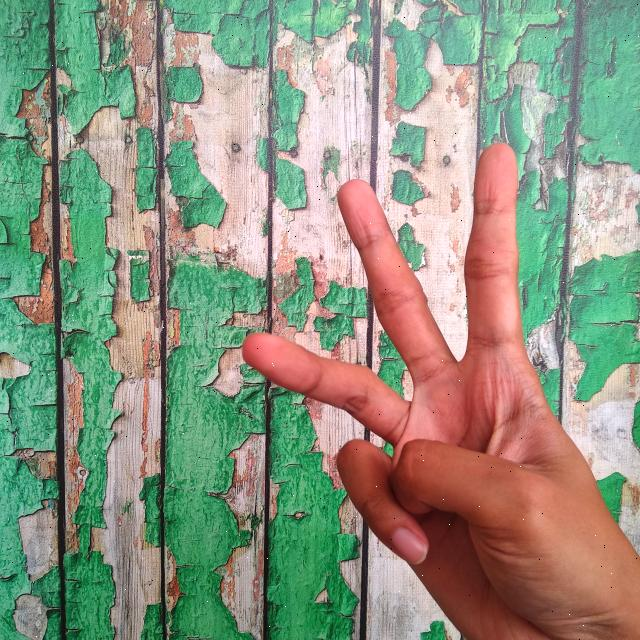W: (237, 132, 640, 640)
